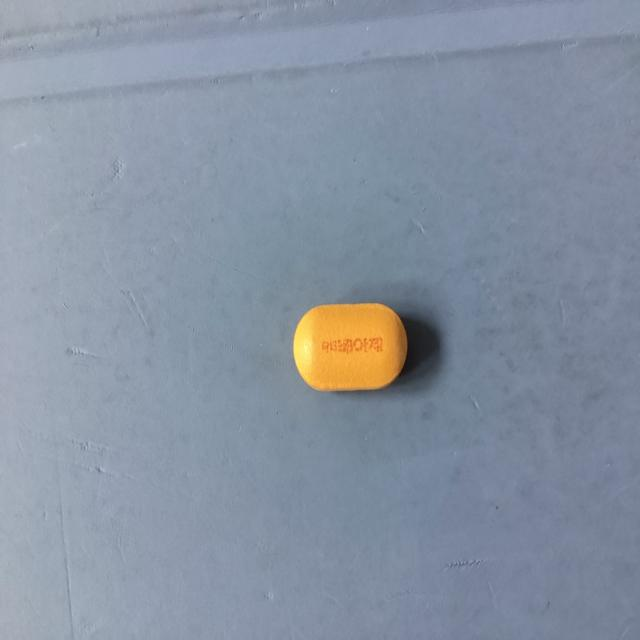-: (290, 294, 414, 396)
